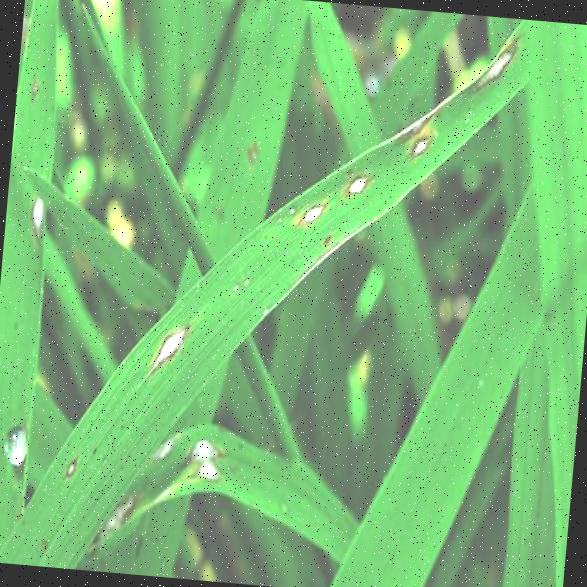Leaf_smut: (466, 31, 524, 88), (141, 309, 195, 366), (21, 184, 55, 252), (394, 119, 438, 157), (297, 190, 330, 229), (343, 156, 374, 196)
